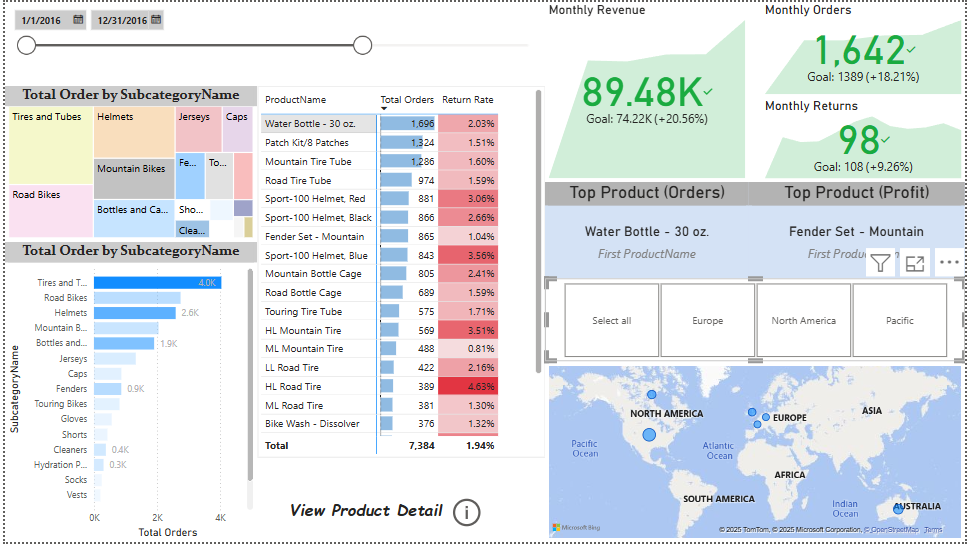

The page's visual inventory and layout, read from the dashboard file:
{"tool":"powerbi","page":{"name":"Exec Summary","canvas":[1280,720],"ordinal":0},"visuals":[{"type":"barChart","title":"Total Order by SubcategoryName","fields":{"Y":["AW_Sales_2015-2017.Total Orders"],"Category":["AW_Product_Subcategories.SubcategoryName"]},"box":[0,320,336,400],"z":1000},{"type":"treemap","title":"Total Order by SubcategoryName","fields":{"Group":["AW_Product_Categories.CategoryName","AW_Product_Subcategories.SubcategoryName"],"Values":["AW_Sales_2015-2017.Total Orders"]},"box":[0,112,336,208],"z":2000},{"type":"pivotTable","fields":{"Values":["AW_Sales_2015-2017.Total Orders","AW_Returns.Return Rate"],"Rows":["AW_Product_Categories.CategoryName","AW_Product_Subcategories.SubcategoryName","AW_Products.ProductName"]},"box":[336,112,384,496],"z":3000},{"type":"slicer","fields":{"Values":["AW_Calendar.Date"]},"box":[0,0,720,112],"z":4000},{"type":"kpi","title":"Monthly Revenue","fields":{"Indicator":["AW_Sales_2015-2017.Total_Revenue"],"TrendLine":["AW_Calendar.Start of Month"],"Goal":["AW_Sales_2015-2017.Prev Month Revenue"]},"box":[720,0,272,240],"z":5000},{"type":"kpi","title":"Monthly Orders","fields":{"TrendLine":["AW_Calendar.Start of Month"],"Indicator":["AW_Sales_2015-2017.Total Orders"],"Goal":["AW_Sales_2015-2017.Prev Month orders"]},"box":[1008,0,272,128],"z":6000},{"type":"kpi","title":"Monthly Returns","fields":{"TrendLine":["AW_Calendar.Start of Month"],"Goal":["AW_Returns.Prev Month Returns"],"Indicator":["AW_Returns.Total Returns"]},"box":[1008,128,272,112],"z":7000},{"type":"card","title":"Top Product (Orders)","fields":{"Values":["Min(AW_Products.ProductName)"]},"box":[720,240,272,128],"z":8000},{"type":"card","title":"Top Product (Profit)","fields":{"Values":["Min(AW_Products.ProductName)"]},"box":[992,240,288,128],"z":9000},{"type":"map","fields":{"Category":["AW_Territories.Country"],"Size":["AW_Sales_2015-2017.Total Orders"]},"box":[720,480,560,240],"z":10000},{"type":"slicer","fields":{"Values":["AW_Territories.Continent"]},"box":[720,368,560,112],"z":11000},{"type":"textbox","box":[336,656,288,48],"z":12000},{"type":"actionButton","box":[592,656,48,48],"z":13000}]}

Visuals, with their boxes in screenshot pixels (x1, y1, x2, y2), scaled from the page's 1280x720 canvas onto the 970x547 screenshot:
"Total Order by SubcategoryName" barChart: (left=0, top=243, right=255, bottom=546)
"Total Order by SubcategoryName" treemap: (left=0, top=85, right=255, bottom=243)
pivotTable - AW_Sales_2015-2017.Total Orders x AW_Returns.Return Rate: (left=255, top=85, right=546, bottom=462)
slicer - AW_Calendar.Date: (left=0, top=0, right=546, bottom=85)
"Monthly Revenue" kpi: (left=546, top=0, right=752, bottom=182)
"Monthly Orders" kpi: (left=764, top=0, right=969, bottom=97)
"Monthly Returns" kpi: (left=764, top=97, right=969, bottom=182)
"Top Product (Orders)" card: (left=546, top=182, right=752, bottom=280)
"Top Product (Profit)" card: (left=752, top=182, right=969, bottom=280)
map - AW_Territories.Country x AW_Sales_2015-2017.Total Orders: (left=546, top=365, right=969, bottom=546)
slicer - AW_Territories.Continent: (left=546, top=280, right=969, bottom=365)
textbox: (left=255, top=498, right=473, bottom=535)
actionButton: (left=449, top=498, right=485, bottom=535)
